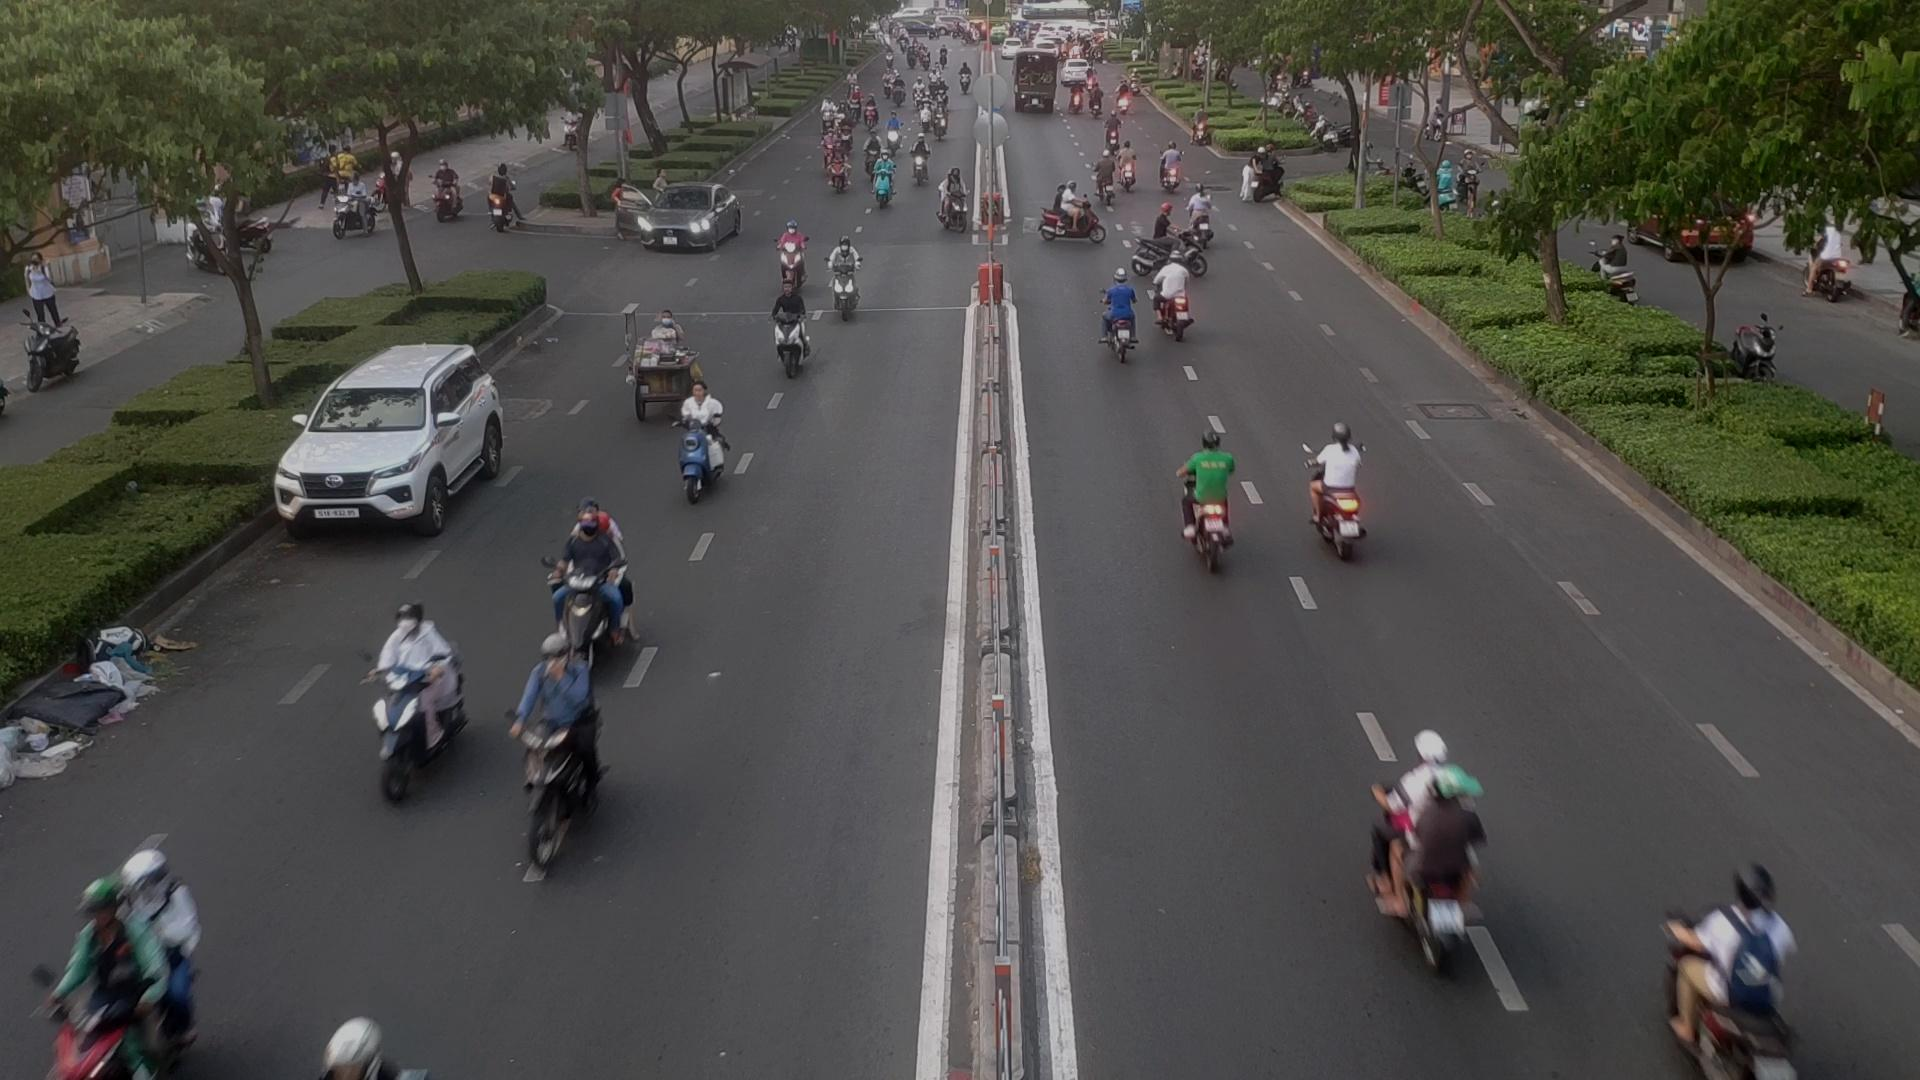car: (276, 345, 521, 537), (620, 189, 756, 257)
motorbike: (30, 841, 190, 1077), (1373, 738, 1501, 967), (1669, 880, 1803, 1077), (363, 607, 469, 793), (524, 647, 618, 855), (553, 512, 642, 663), (1180, 431, 1249, 564), (1309, 426, 1373, 551), (673, 386, 745, 491), (767, 285, 825, 376), (1091, 278, 1142, 364), (822, 241, 872, 319), (1133, 222, 1201, 276), (1039, 196, 1106, 248), (1155, 262, 1199, 339), (774, 218, 818, 277), (1095, 152, 1134, 200)
